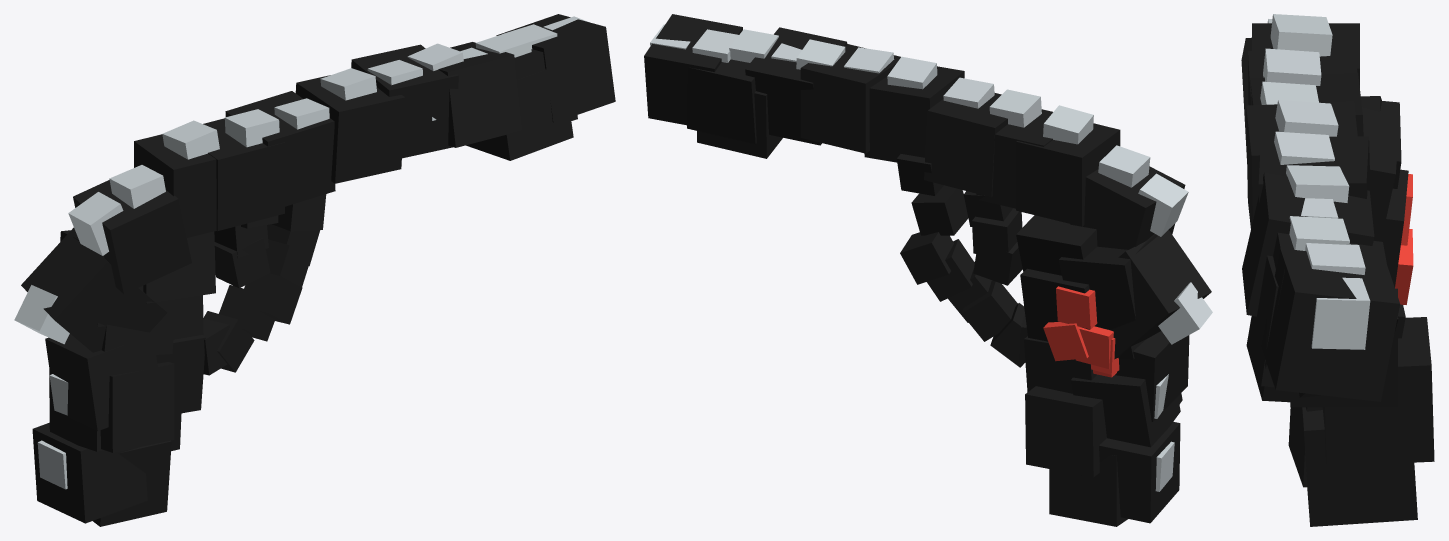
The picture shows the model from 3 angles, left to right: view 1: azimuth 30°, elevation 25°; view 2: azimuth 150°, elevation 25°; view 3: azimuth 270°, elevation 25°; orthographic projection. The views are drawn at different scales.
Visible parts, largest first — view 1: mesh_226234348, mesh_516195487, mesh_1774654406, mesh_972704257, mesh_1985006922, mesh_551946911, mesh_2013103317, mesh_3403868, mesh_2057744760, mesh_1526220065, mesh_977168571, mesh_877414627 (+28 smaller); view 2: mesh_571407793, mesh_234746585, mesh_2057744760, mesh_977168571, mesh_226234348, mesh_1774654406, mesh_3403868, mesh_598448932, mesh_516195487, mesh_972704257, mesh_1736978354, mesh_1985006922 (+33 smaller); view 3: mesh_3403868, mesh_234746585, mesh_696231690, mesh_1985006922, mesh_677061810, mesh_2057744760, mesh_1674302829, mesh_1774654406, mesh_1018631419, mesh_2114648300, mesh_1677509002, mesh_1602997162 (+19 smaller).
Part boxes in pixels (x1,y1,x2,y2): mesh_226234348: (21, 227, 167, 352); mesh_516195487: (73, 180, 191, 294); mesh_1774654406: (295, 75, 405, 183); mesh_972704257: (32, 422, 147, 523); mesh_1985006922: (438, 42, 522, 147); mesh_551946911: (203, 118, 285, 230); mesh_2013103317: (45, 334, 163, 431); mesh_3403868: (496, 14, 615, 122); mesh_2057744760: (351, 44, 458, 158); mesh_1526220065: (100, 362, 174, 452); mesh_977168571: (225, 91, 335, 206); mesh_877414627: (466, 63, 573, 160); mesh_571407793: (1016, 123, 1120, 226); mesh_234746585: (1025, 386, 1106, 477); mesh_2057744760: (800, 44, 900, 153); mesh_977168571: (924, 93, 1007, 197); mesh_226234348: (1109, 230, 1211, 359); mesh_1774654406: (864, 66, 964, 162); mesh_3403868: (644, 14, 742, 125); mesh_598448932: (686, 59, 756, 144); mesh_516195487: (1070, 166, 1185, 249); mesh_972704257: (1080, 421, 1180, 523); mesh_1736978354: (1070, 374, 1180, 447); mesh_1985006922: (745, 27, 847, 145); mesh_3403868: (1261, 248, 1400, 401); mesh_234746585: (1322, 317, 1434, 466); mesh_696231690: (1302, 407, 1417, 526); mesh_1985006922: (1242, 172, 1374, 316); mesh_677061810: (1311, 277, 1370, 349); mesh_2057744760: (1258, 136, 1370, 202); mesh_1674302829: (1363, 115, 1398, 241); mesh_1774654406: (1246, 101, 1357, 228); mesh_1018631419: (1270, 14, 1332, 56); mesh_2114648300: (1275, 99, 1338, 136); mesh_1677509002: (1286, 165, 1349, 202); mesh_1602997162: (1263, 48, 1321, 85).
Bounding box in the file's own units: 33.45 × 22 × 7.15.
